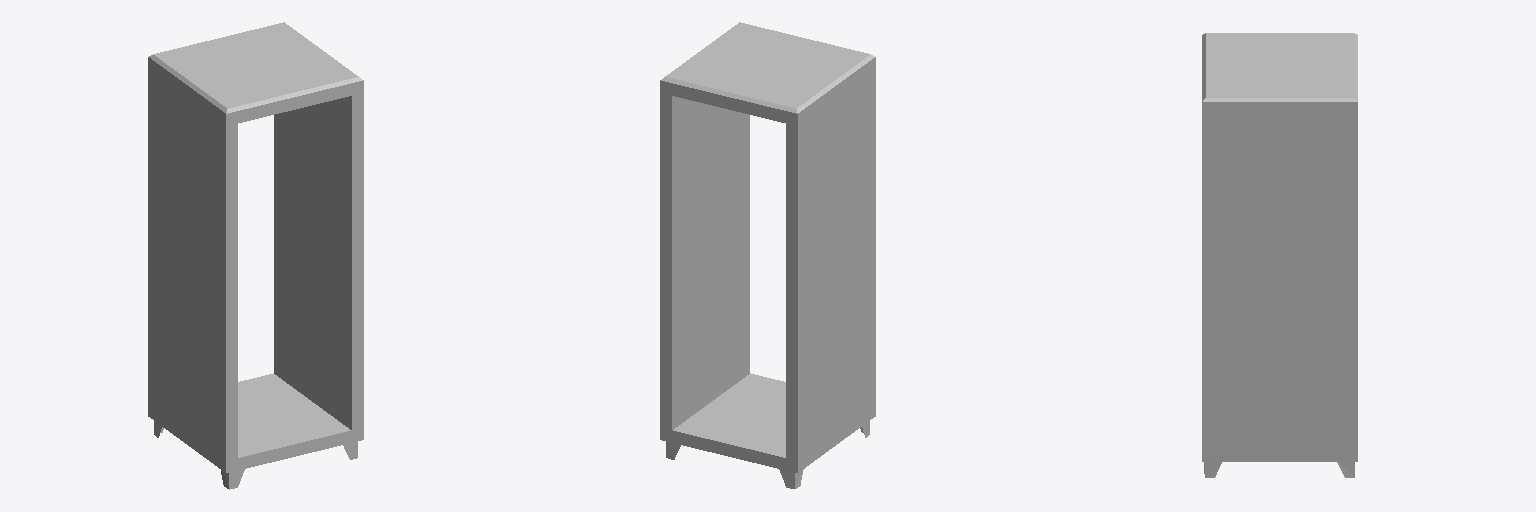
Rendered from 机柜5-自由染色.obj.
The picture shows the model from 3 angles: view 1: azimuth 30°, elevation 25°; view 2: azimuth 150°, elevation 25°; view 3: azimuth 270°, elevation 25°; orthographic projection.
Visible parts, largest first — view 1: Box2131; view 2: Box2131; view 3: Box2131.
Boxes of the visible parts, x1,y1,x2,y2 form: Box2131: [148, 22, 363, 489]; Box2131: [660, 22, 875, 488]; Box2131: [1202, 33, 1357, 477].
Bounding box in the file's own units: 91.5 × 243 × 90.